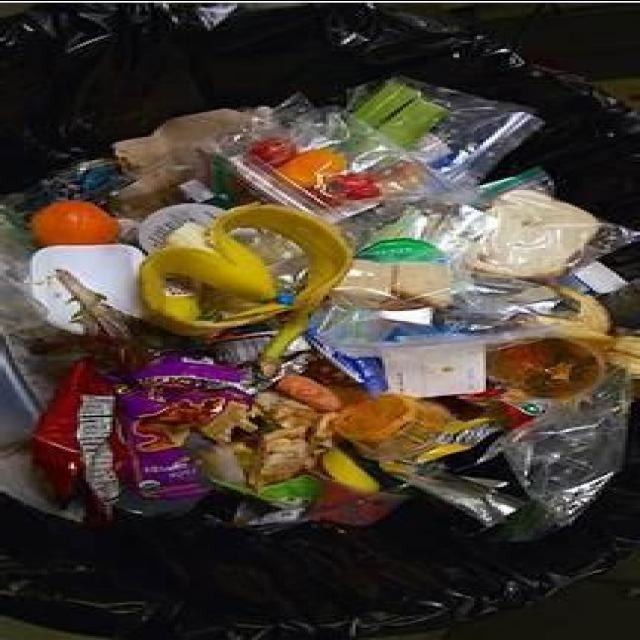Disposable: (30, 244, 146, 332), (137, 202, 225, 252), (213, 335, 271, 364)
Garbage: (2, 76, 640, 539)
Plastic_Bag: (220, 94, 430, 220), (317, 273, 606, 355), (408, 78, 544, 186)
Plastic_Container: (332, 394, 452, 459)
Plastic_wraper: (390, 368, 629, 539), (34, 350, 254, 521), (305, 329, 388, 395), (412, 416, 502, 462)
